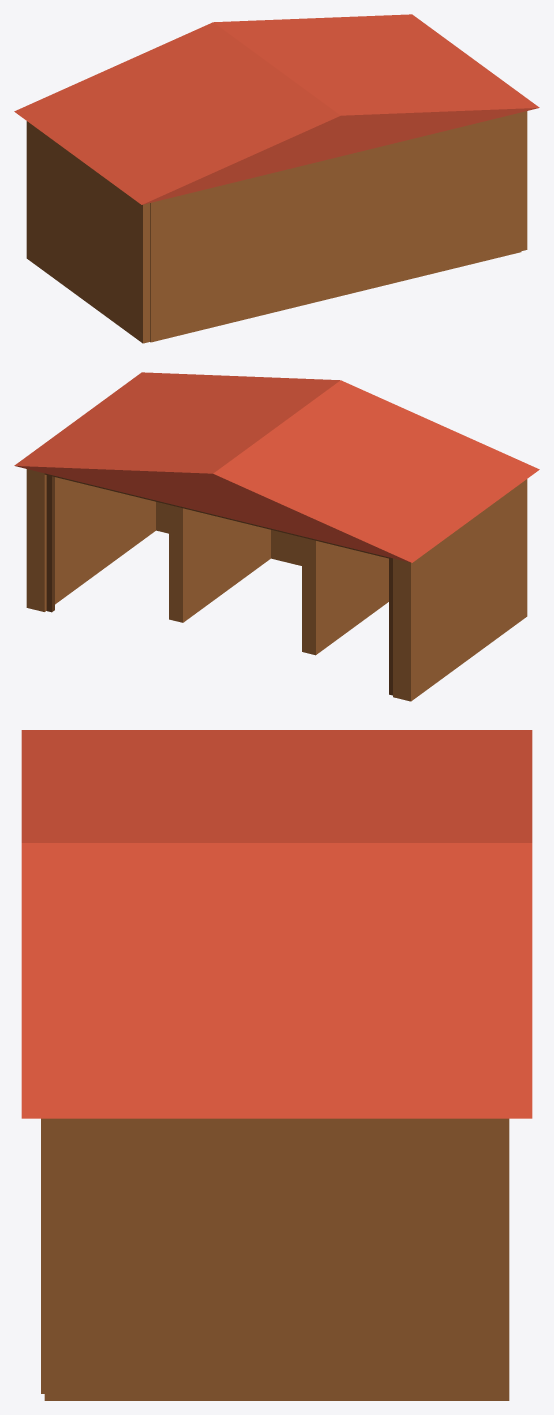
File: shelter_hut_L.fbx
3 renders of one model, top to bottom at view 1: azimuth 30°, elevation 25°; view 2: azimuth 150°, elevation 25°; view 3: azimuth 270°, elevation 25°, orthographic. The views are drawn at different scales.
Parts seen in each view (by area): view 1: shelter_hut_L; view 2: shelter_hut_L; view 3: shelter_hut_L.
Part boxes in pixels (x1,y1,x2,y2): shelter_hut_L: (14, 14, 539, 343); shelter_hut_L: (14, 372, 539, 701); shelter_hut_L: (21, 730, 532, 1400).
Bounding box in the file's own units: 9 × 4 × 5.
